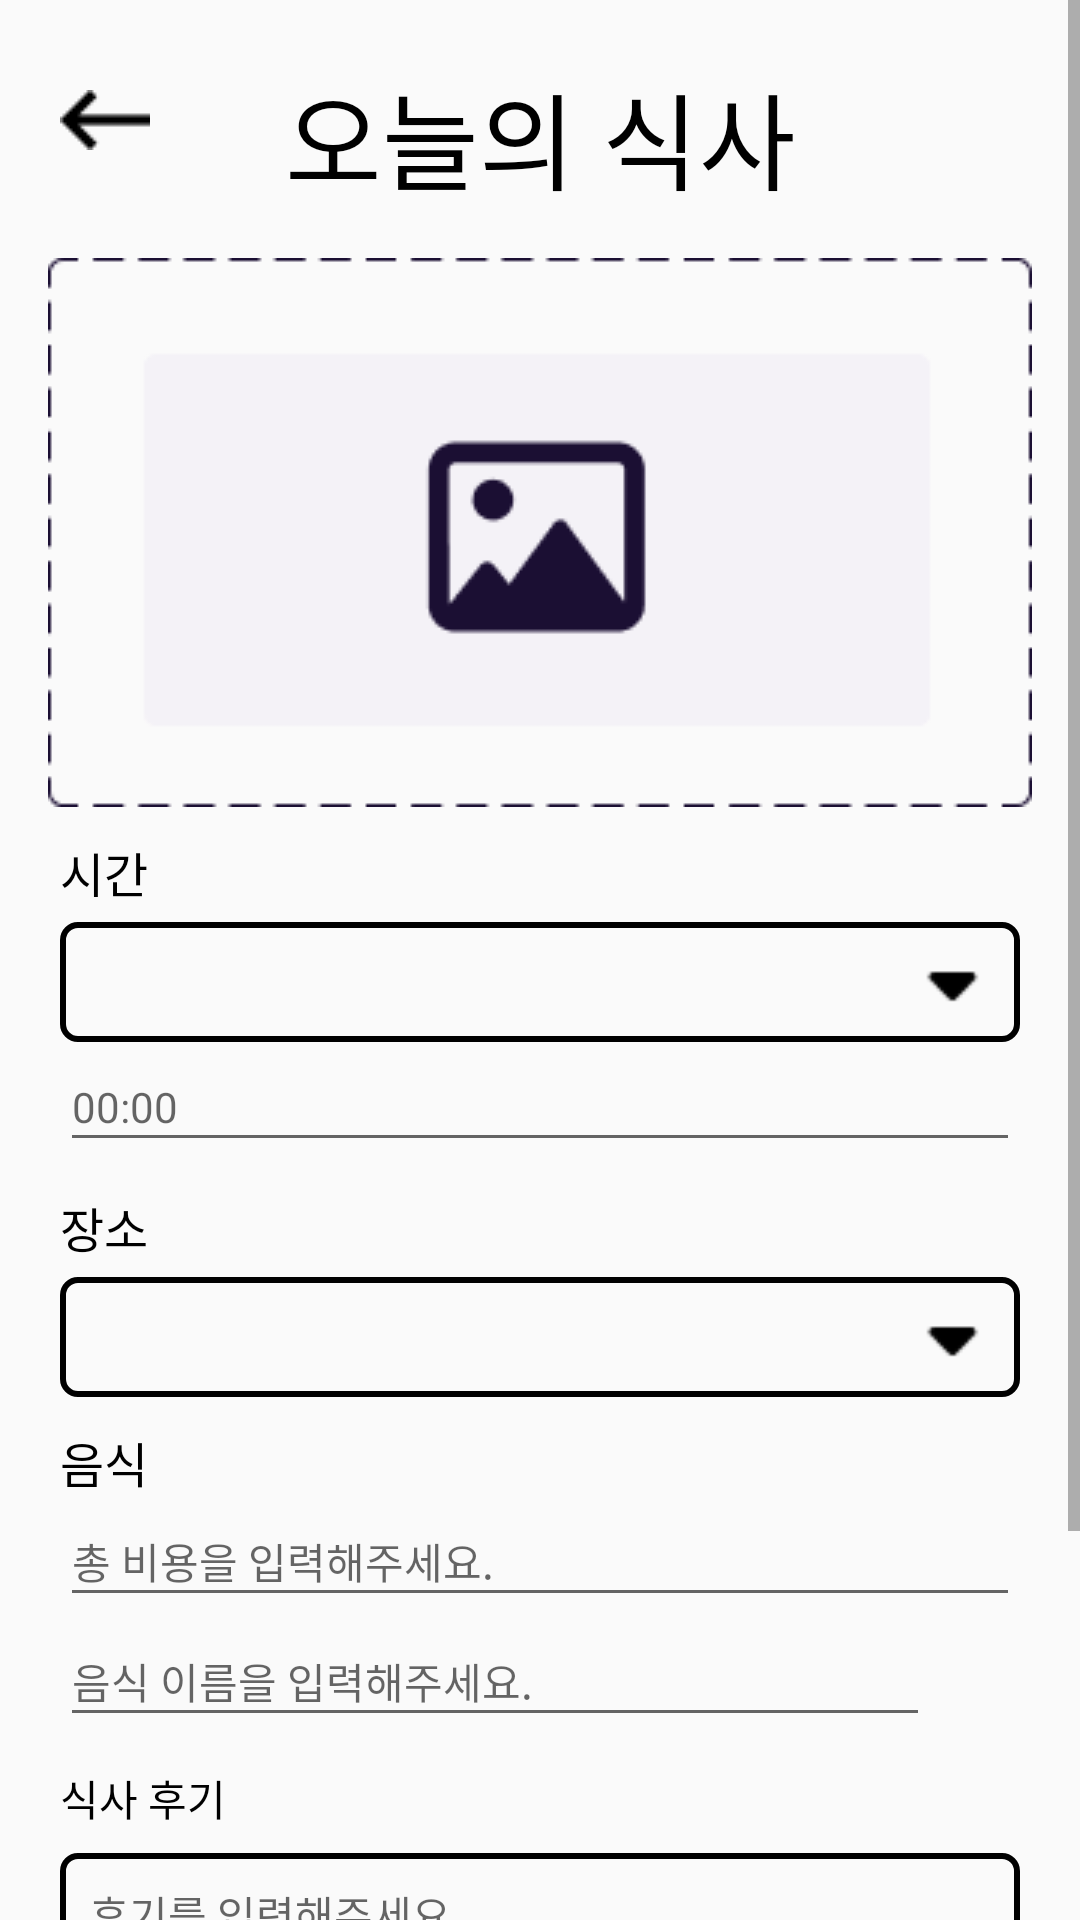

Icons on this 1080*1920 Android screen, each with its box as box=[x1, y1, x2, y2]:
back: box=[60, 90, 150, 150]
